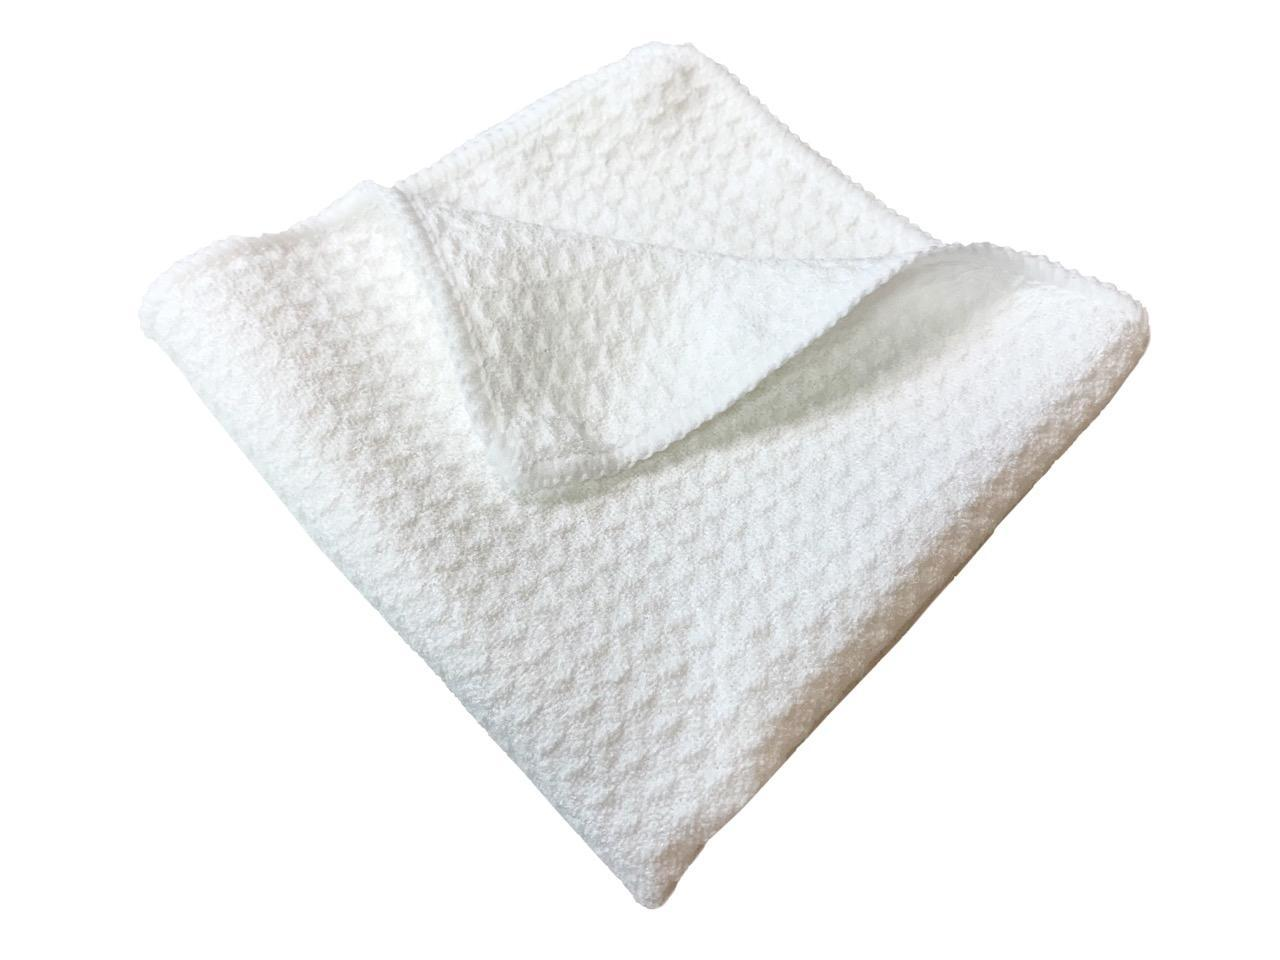towel: (86, 18, 1170, 920)
